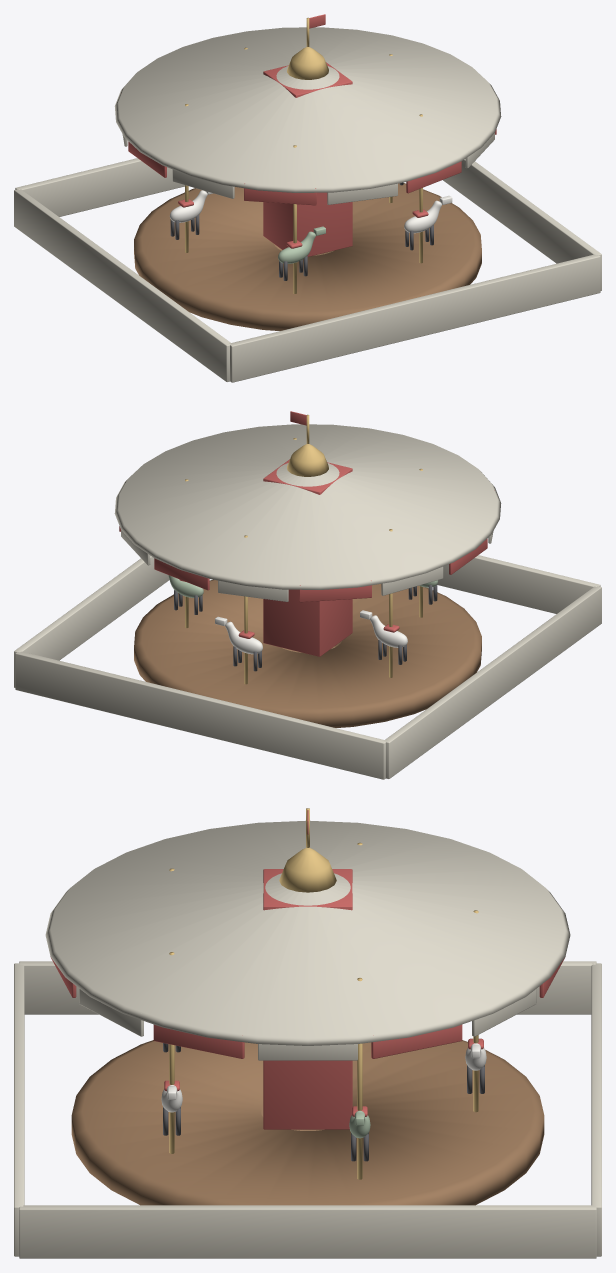
File: giostra.glb
3 renders of one model, top to bottom at view 1: azimuth 30°, elevation 25°; view 2: azimuth 150°, elevation 25°; view 3: azimuth 270°, elevation 25°, orthographic. The views are drawn at different scales.
Visible parts, largest first — view 1: tettoia, pedana, recinto_s, recinto_o, recinto_e, recinto_n, COL_colonna, cupola, festone_8, festone_7, festone_9, festone_6 (+3 smaller); view 2: tettoia, pedana, recinto_n, recinto_o, recinto_e, COL_colonna, recinto_s, cupola, festone_12, festone_13, festone_11, festone_0 (+2 smaller); view 3: tettoia, pedana, recinto_e, COL_colonna, recinto_o, recinto_n, recinto_s, cupola, festone_3, festone_2, festone_4, festone_1 (+2 smaller).
Part boxes in pixels (left/top/right/bottom): tettoia: left=114, top=27, right=501, bottom=192; pedana: left=134, top=183, right=481, bottom=330; recinto_s: left=229, top=254, right=600, bottom=382; recinto_o: left=14, top=189, right=230, bottom=381; recinto_e: left=443, top=159, right=601, bottom=290; recinto_n: left=15, top=158, right=184, bottom=216; COL_colonna: left=263, top=62, right=352, bottom=256; cupola: left=287, top=47, right=328, bottom=79; festone_8: left=244, top=183, right=316, bottom=205; festone_7: left=327, top=183, right=397, bottom=204; festone_9: left=172, top=169, right=234, bottom=198; festone_6: left=406, top=161, right=461, bottom=193; tettoia: left=114, top=424, right=501, bottom=589; pedana: left=134, top=579, right=481, bottom=727; recinto_n: left=15, top=651, right=386, bottom=779; recinto_o: left=385, top=586, right=601, bottom=778; recinto_e: left=14, top=556, right=169, bottom=687; COL_colonna: left=263, top=459, right=352, bottom=656; recinto_s: left=437, top=555, right=600, bottom=613; cupola: left=287, top=444, right=328, bottom=476; festone_12: left=299, top=580, right=371, bottom=602; festone_13: left=218, top=580, right=288, bottom=601; festone_11: left=381, top=566, right=443, bottom=595; festone_0: left=154, top=558, right=209, bottom=590; tettoia: left=45, top=820, right=570, bottom=1045; pedana: left=71, top=1040, right=544, bottom=1205; recinto_e: left=19, top=1205, right=596, bottom=1258; COL_colonna: left=263, top=869, right=352, bottom=1129; recinto_o: left=19, top=961, right=596, bottom=1014; recinto_n: left=591, top=963, right=601, bottom=1256; recinto_s: left=14, top=963, right=24, bottom=1256; cupola: left=279, top=847, right=336, bottom=892; festone_3: left=258, top=1044, right=357, bottom=1060; festone_2: left=371, top=1024, right=462, bottom=1058; festone_4: left=153, top=1024, right=244, bottom=1058; festone_1: left=472, top=981, right=536, bottom=1036.
Size of the model in its own units: 11.2 by 6.85 by 11.2.
